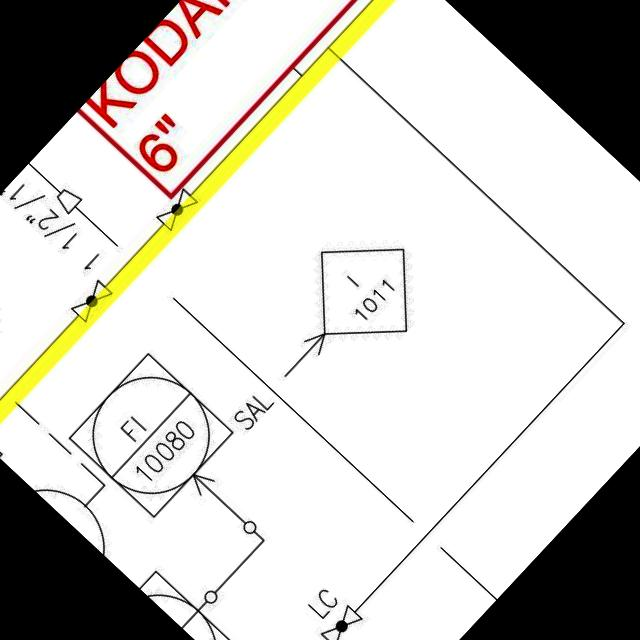BV2: (148, 182, 204, 238), (66, 273, 120, 328), (315, 599, 368, 640)
SP: (48, 178, 89, 220)
